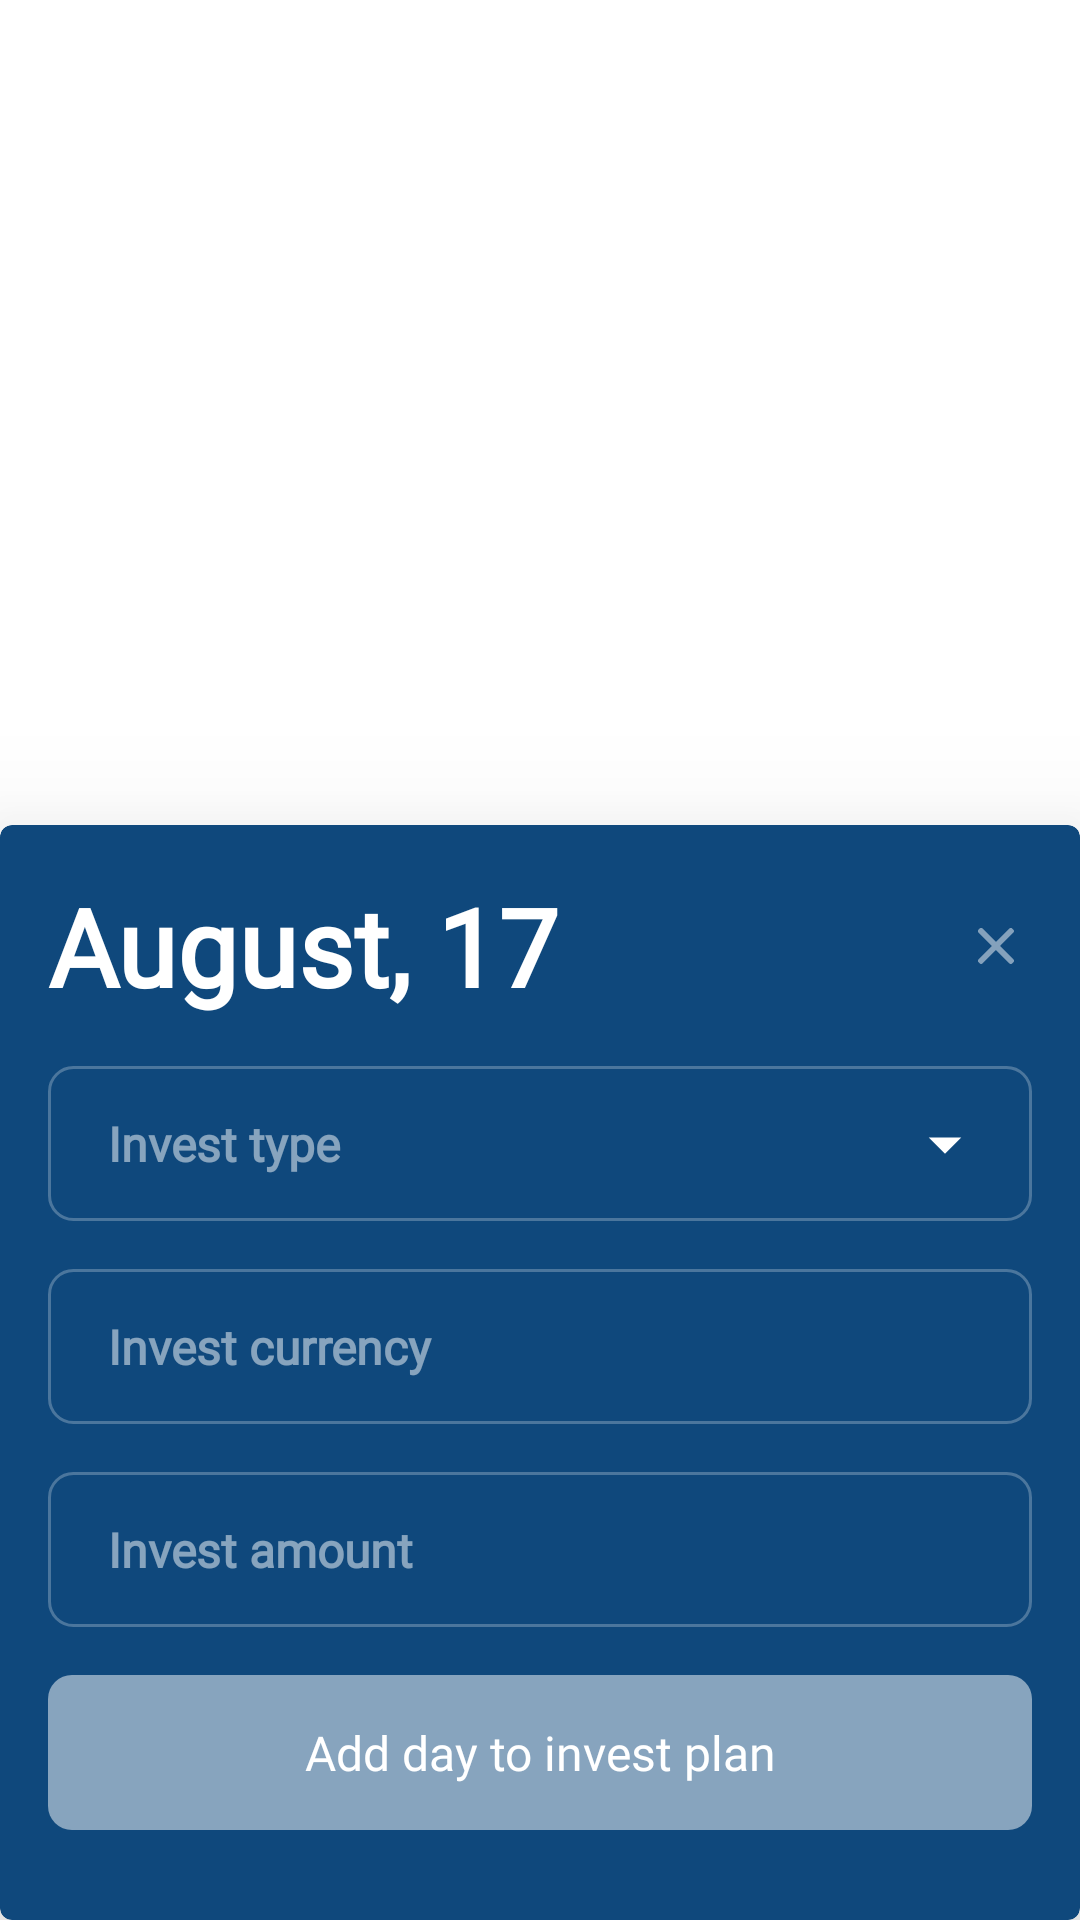

Locate icon controls on the screen. Image size 1080w x 1920h, boxes as (x1, y1, x2, y2).
close: (978, 928, 1014, 964)
